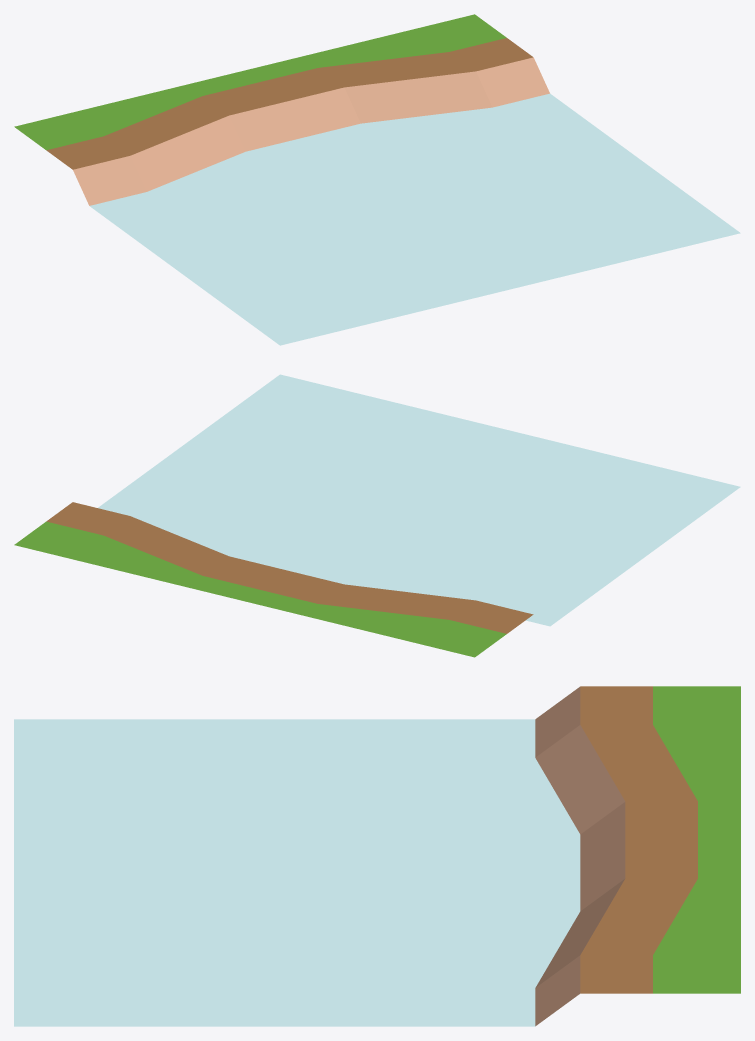
The model's file is ground_riverSide.glb.
The picture shows the model from 3 angles, top to bottom: view 1: azimuth 30°, elevation 25°; view 2: azimuth 150°, elevation 25°; view 3: azimuth 270°, elevation 25°; orthographic projection. The views are drawn at different scales.
Parts seen in each view (by area): view 1: ground_riverSide; view 2: ground_riverSide; view 3: ground_riverSide.
Part boxes in pixels (x1,y1,x2,y2): ground_riverSide: (14, 14, 740, 345); ground_riverSide: (14, 374, 740, 657); ground_riverSide: (14, 686, 740, 1026).
Bounding box in the file's own units: 1 × 0.05 × 1.
